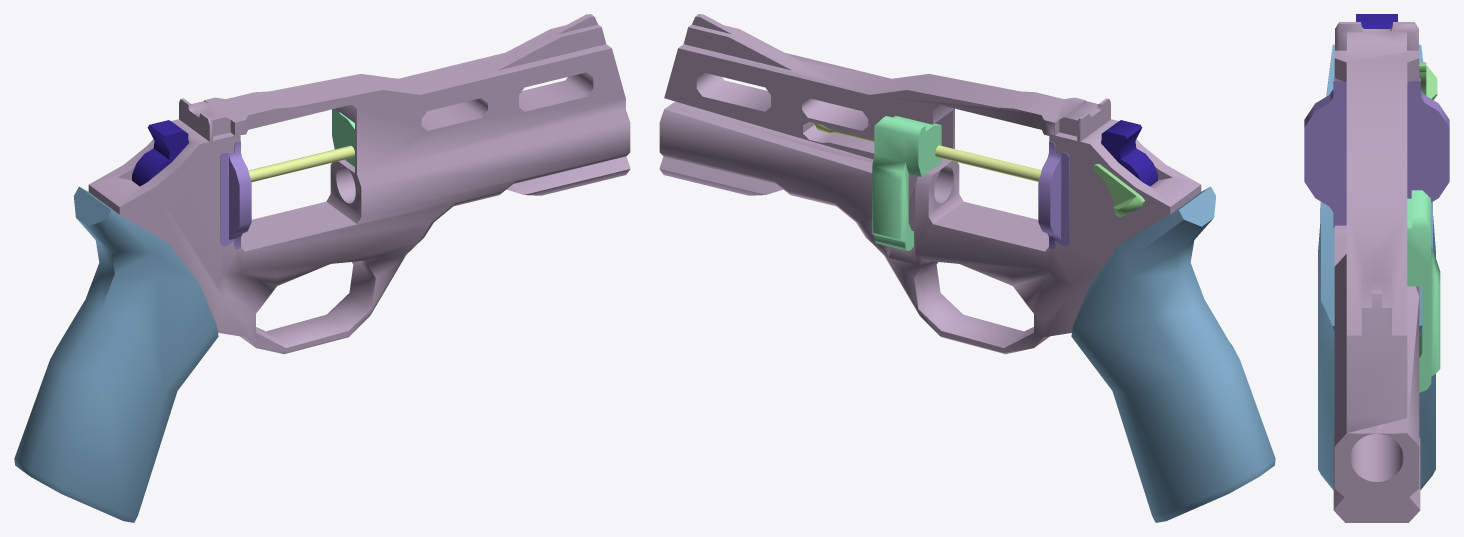
3 renders of one model, left to right at view 1: azimuth 30°, elevation 25°; view 2: azimuth 150°, elevation 25°; view 3: azimuth 270°, elevation 25°, orthographic. The views are drawn at different scales.
Parts seen in each view (by area): view 1: split_parent_0, Cube.003_0, Cube.004_0, Cube.002_0, Cylinder.001_0, Cube.005_0; view 2: split_parent_0, Cube.003_0, Cube.005_0, Cube.004_0, Cube.002_0, Cylinder.001_0, Cube.008_0; view 3: split_parent_0, Cube.004_0, Cube.003_0, Cube.005_0, Cube.002_0, Cube.008_0.
Part boxes in pixels (box(x1,y1,x2,y2)): split_parent_0: box(88, 14, 630, 354); Cube.003_0: box(14, 186, 218, 522); Cube.004_0: box(220, 141, 251, 249); Cube.002_0: box(132, 120, 188, 186); Cylinder.001_0: box(248, 145, 354, 182); Cube.005_0: box(332, 108, 354, 166); split_parent_0: box(659, 14, 1201, 354); Cube.003_0: box(1071, 186, 1275, 522); Cube.005_0: box(872, 116, 941, 250); Cube.004_0: box(1038, 141, 1069, 249); Cube.002_0: box(1101, 120, 1157, 186); Cylinder.001_0: box(814, 123, 1041, 181); Cube.008_0: box(1093, 164, 1144, 217); split_parent_0: box(1333, 22, 1420, 522); Cube.004_0: box(1304, 78, 1449, 227); Cube.003_0: box(1318, 44, 1435, 489); Cube.005_0: box(1407, 190, 1440, 392); Cube.002_0: box(1356, 14, 1397, 28); Cube.008_0: box(1419, 62, 1437, 99).
Size of the model in its own units: 1 by 0.627 by 0.1546.
